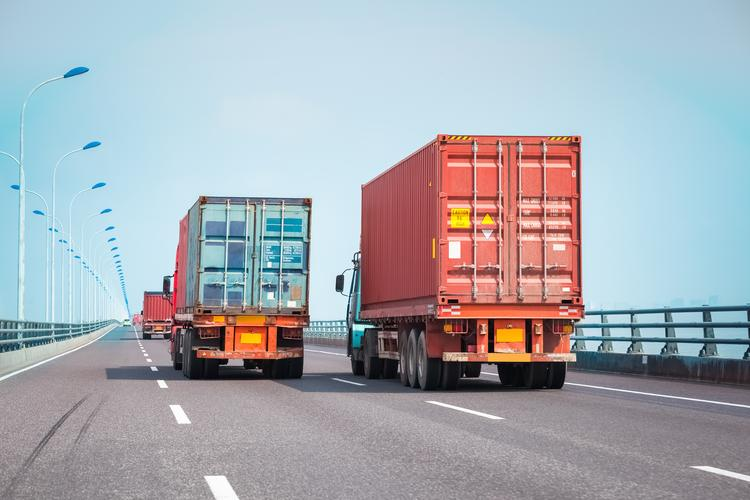卡车: (337, 119, 582, 407), (161, 176, 323, 394)
